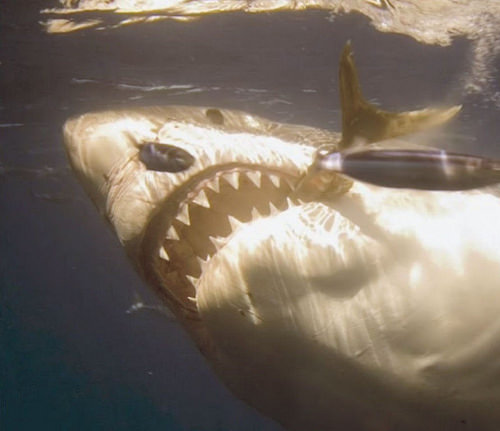shark: (40, 61, 496, 428)
